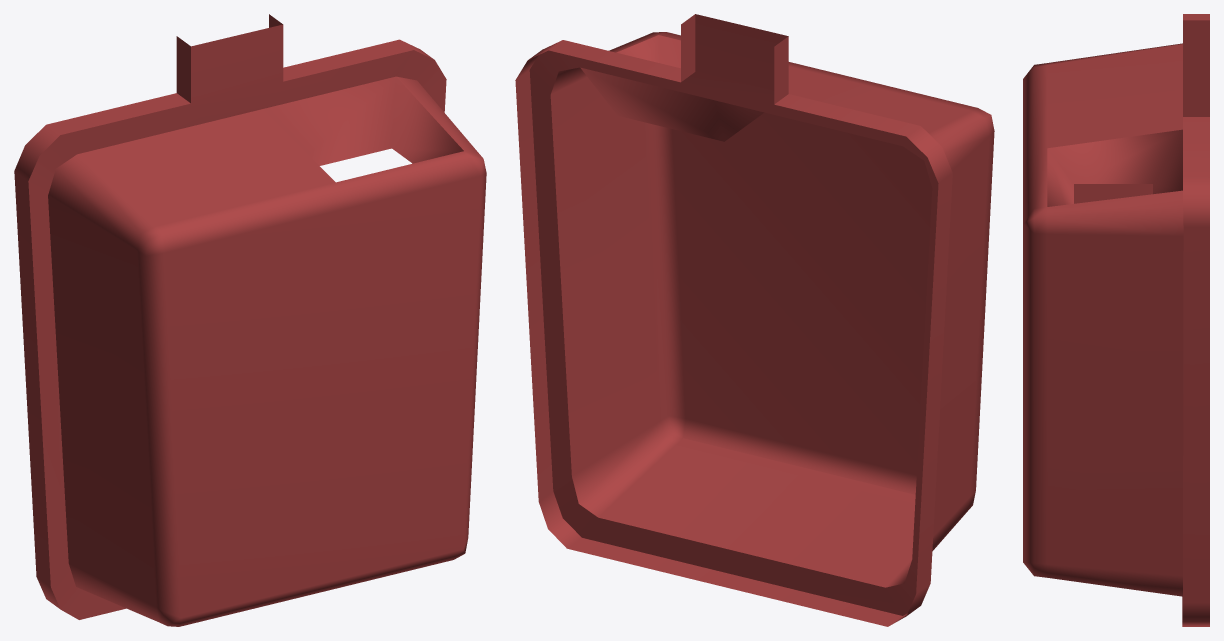
Rendered from Caja.fbx.
3 views of the same model, side by side, from view 1: azimuth 30°, elevation 25°; view 2: azimuth 150°, elevation 25°; view 3: azimuth 270°, elevation 25° (orthographic). The views are drawn at different scales.
Visible parts, largest first — view 1: Caja; view 2: Caja; view 3: Caja.
Part boxes in pixels (box(x1,y1,x2,y2)): Caja: box(14, 14, 486, 626); Caja: box(515, 14, 994, 626); Caja: box(1023, 14, 1209, 626).
Bounding box in the file's own units: 0.1834 × 0.2289 × 0.0756.
